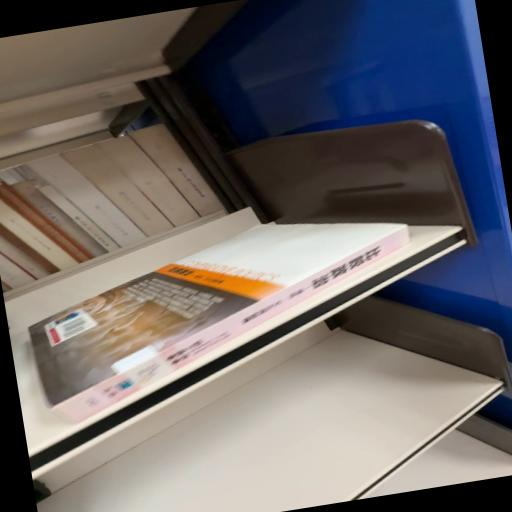flat: (29, 224, 410, 422)
